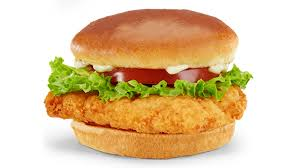hamburger: (40, 7, 251, 159)
